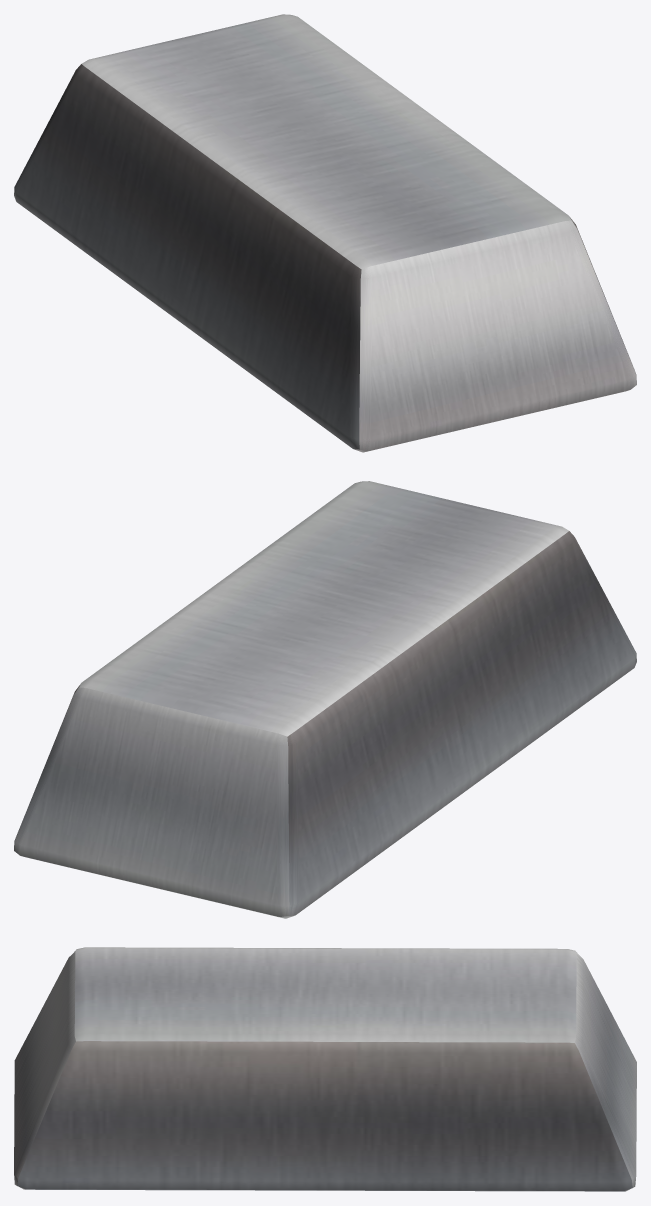
The model's file is steel.fbx.
3 renders of one model, top to bottom at view 1: azimuth 30°, elevation 25°; view 2: azimuth 150°, elevation 25°; view 3: azimuth 270°, elevation 25°, orthographic. The views are drawn at different scales.
Parts seen in each view (by area): view 1: pCube1; view 2: pCube1; view 3: pCube1.
Boxes of the visible parts, x1,y1,x2,y2 form: pCube1: (14,14,636,452); pCube1: (14,481,636,918); pCube1: (14,947,636,1191).
Bounding box in the file's own units: 0.7793 × 0.4244 × 1.66.
1 material, 1 textured.
